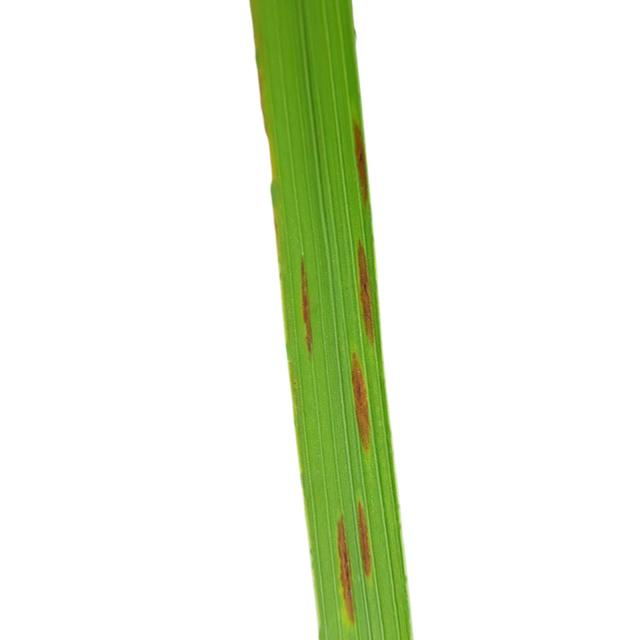Narrow brown: (194, 0, 534, 640)
